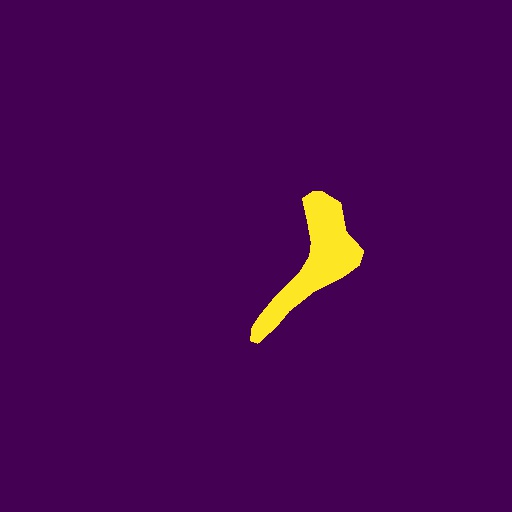Gliomia_tumour: (250, 191, 364, 344)
